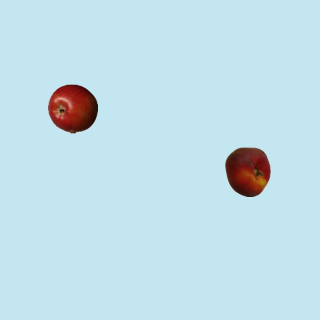Apple Braeburn: (47, 83, 97, 133)
Nectarine Flat: (222, 146, 272, 196)
